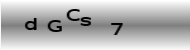7: (108, 21, 123, 36)
C: (65, 7, 80, 22)
G: (46, 18, 62, 33)
d: (23, 16, 37, 31)
s: (79, 15, 91, 27)
